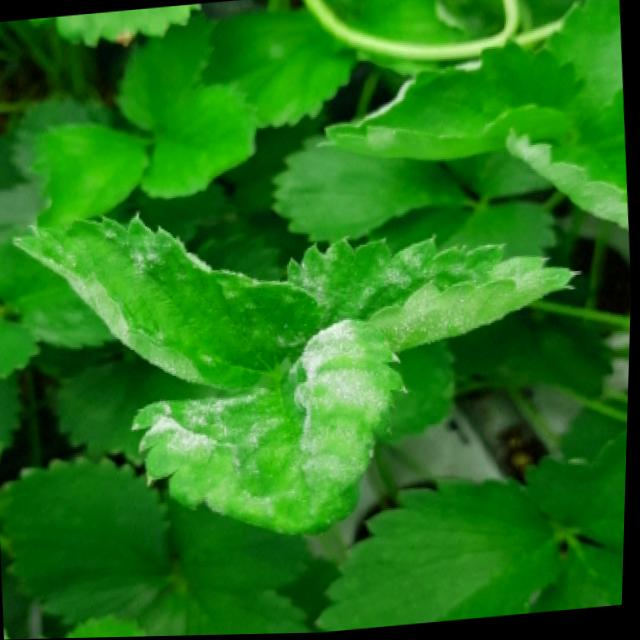Powdery Mildew Leaf: (10, 211, 353, 395), (131, 320, 407, 540), (284, 236, 580, 355)
